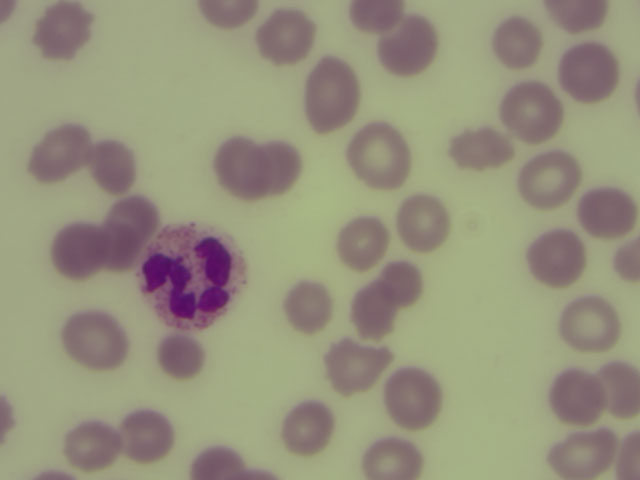RBC: (345, 120, 411, 190), (302, 56, 360, 134), (543, 428, 622, 480), (325, 339, 397, 393), (62, 313, 127, 370), (446, 126, 517, 170), (361, 434, 428, 480), (335, 215, 388, 272), (119, 407, 172, 464), (63, 418, 116, 475), (153, 330, 206, 387), (531, 230, 584, 287), (581, 182, 634, 239), (523, 150, 576, 207), (505, 83, 558, 140), (562, 43, 615, 100), (492, 14, 545, 71), (380, 17, 433, 74), (246, 139, 299, 196), (210, 138, 263, 195), (260, 9, 313, 66), (49, 223, 102, 280), (86, 136, 139, 193), (32, 125, 85, 182), (280, 397, 333, 454), (283, 278, 336, 335), (547, 368, 600, 425), (564, 295, 617, 352), (347, 284, 400, 341), (388, 372, 441, 429), (396, 194, 449, 251), (34, 1, 87, 57), (539, 1, 613, 37), (377, 256, 428, 306), (186, 439, 248, 480), (594, 363, 640, 418), (105, 195, 158, 241), (96, 221, 139, 270), (345, 1, 408, 34), (200, 1, 257, 31)
WBC: (137, 227, 237, 332)
